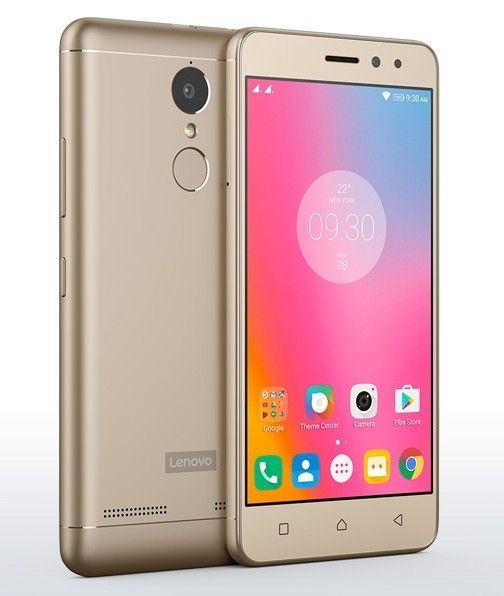mobile: (217, 25, 450, 590)
